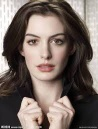female: (11, 6, 89, 89)
